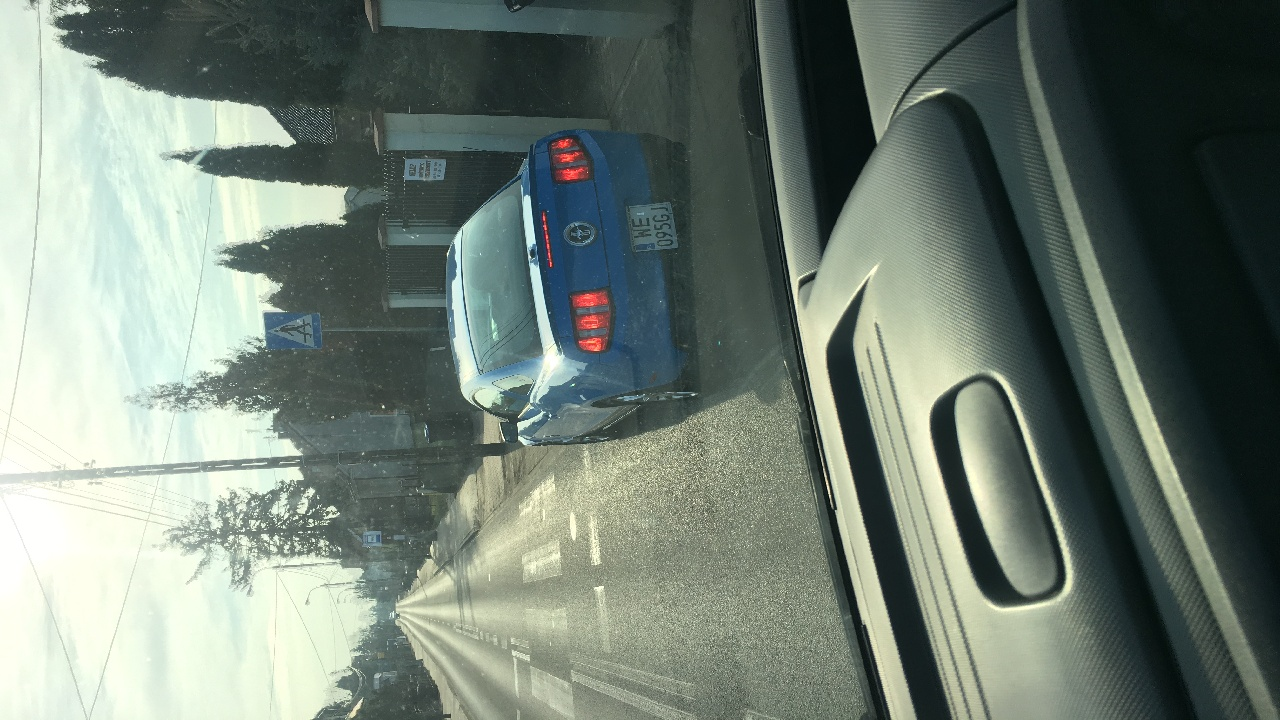D6: (258, 309, 327, 350)
